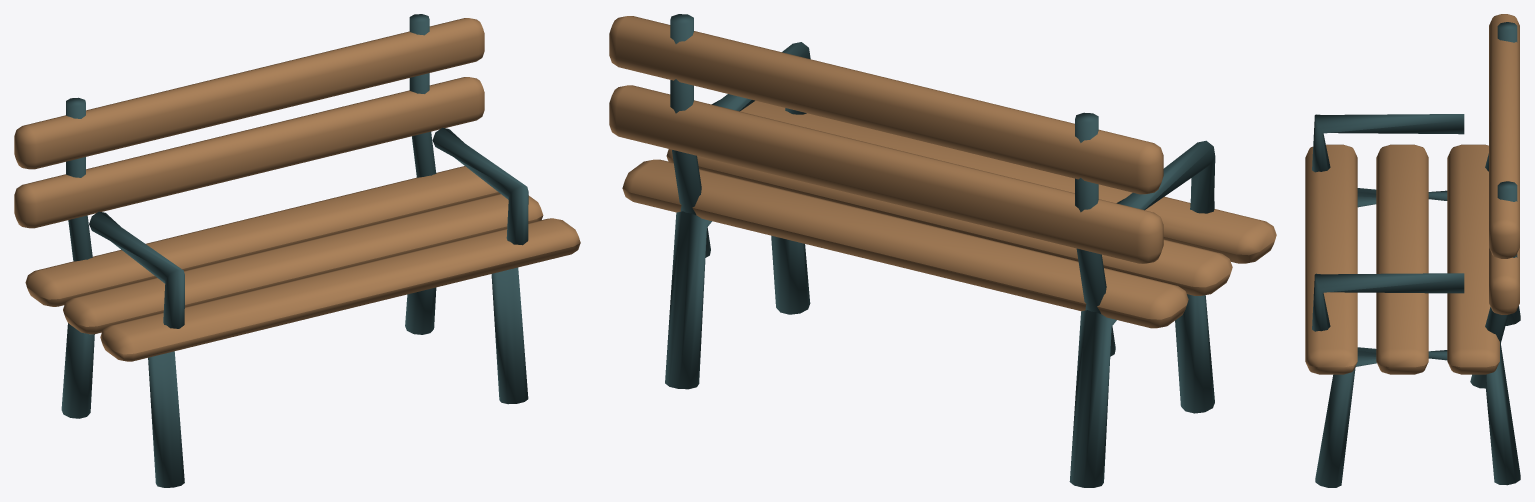
Rendered from oak_bench.glb.
3 renders of one model, left to right at view 1: azimuth 30°, elevation 25°; view 2: azimuth 150°, elevation 25°; view 3: azimuth 270°, elevation 25°, orthographic. The views are drawn at different scales.
Visible parts, largest first — view 1: oak_bench_crafted_mesh; view 2: oak_bench_crafted_mesh; view 3: oak_bench_crafted_mesh.
Boxes of the visible parts, x1,y1,x2,y2 form: oak_bench_crafted_mesh: [14, 14, 580, 487]; oak_bench_crafted_mesh: [609, 14, 1276, 487]; oak_bench_crafted_mesh: [1305, 14, 1520, 487].
Size of the model in its own units: 1.65 by 1.07 by 0.6975.
